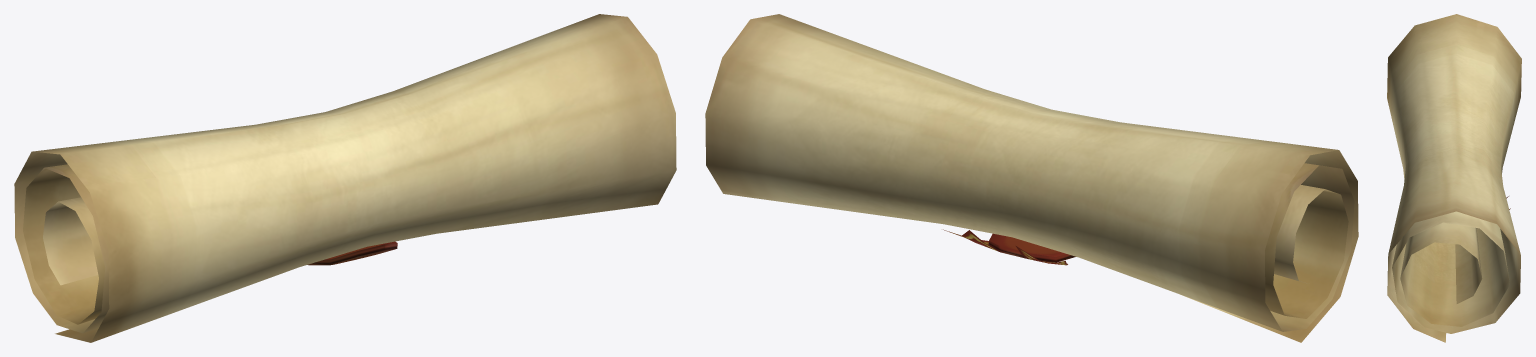
The model's file is Pergamino Fin.FBX.
3 renders of one model, left to right at view 1: azimuth 30°, elevation 25°; view 2: azimuth 150°, elevation 25°; view 3: azimuth 270°, elevation 25°, orthographic. The views are drawn at different scales.
Parts seen in each view (by area): view 1: Pergamino; view 2: Pergamino; view 3: Pergamino.
Boxes of the visible parts, x1=… form: Pergamino: x1=14, y1=14, x2=676, y2=342; Pergamino: x1=705, y1=14, x2=1358, y2=342; Pergamino: x1=1387, y1=14, x2=1521, y2=342.
Size of the model in its own units: 31.25 by 9.72 by 9.03.
Materials: 1 (1 with a texture image).
